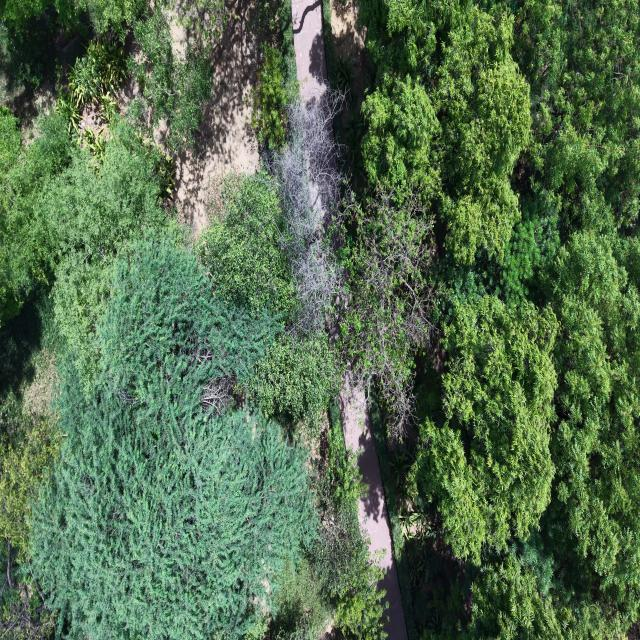DRY_AREA: (174, 0, 259, 235), (175, 0, 259, 234), (340, 373, 407, 639), (340, 374, 407, 639), (340, 377, 407, 639), (331, 0, 369, 124), (292, 0, 327, 101), (331, 0, 367, 93)
VEGETATION_TREE: (0, 0, 639, 639), (0, 5, 383, 638), (343, 0, 639, 638), (9, 176, 382, 637), (12, 176, 382, 637), (30, 240, 316, 638), (0, 113, 173, 636), (197, 174, 383, 638), (353, 3, 531, 407), (0, 114, 170, 357), (409, 296, 556, 564), (341, 190, 434, 431), (0, 298, 63, 637), (267, 92, 343, 332), (315, 403, 387, 639), (198, 173, 304, 326), (0, 113, 74, 324), (198, 174, 296, 319), (129, 4, 212, 154), (0, 393, 62, 558), (56, 37, 127, 155), (251, 0, 298, 155), (253, 334, 337, 419), (0, 15, 67, 94), (252, 43, 294, 151)
